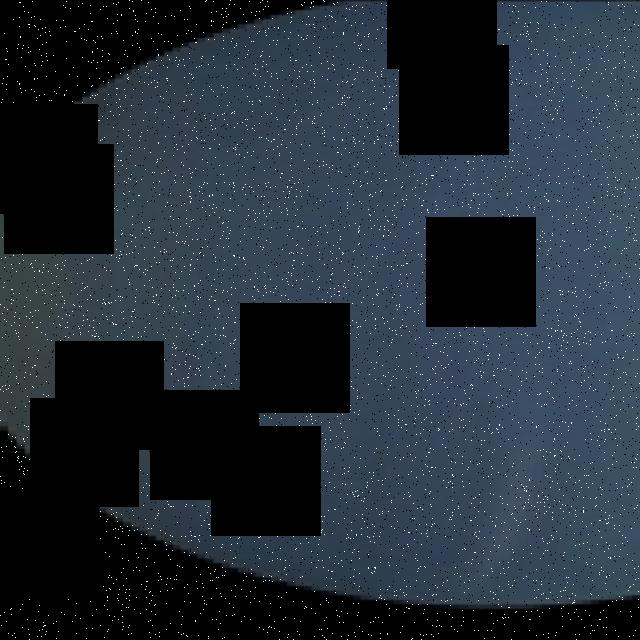Uranus: (0, 0, 640, 612)
